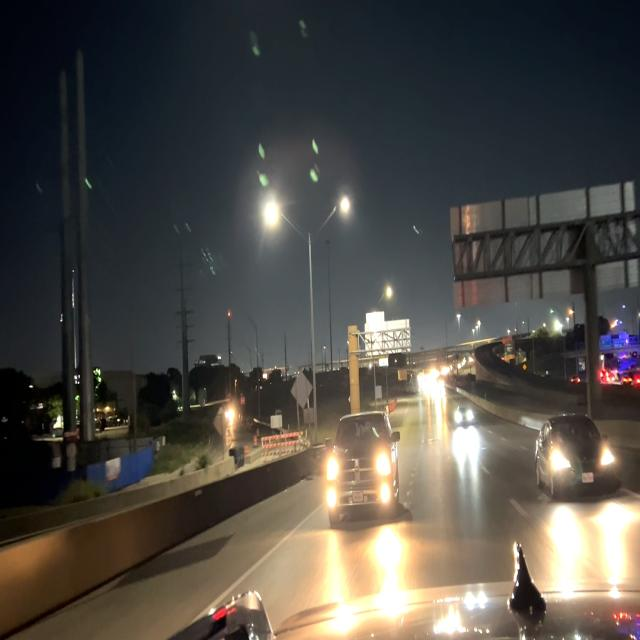back-of-sign: (450, 180, 640, 311), (364, 311, 413, 356), (291, 372, 313, 407)
